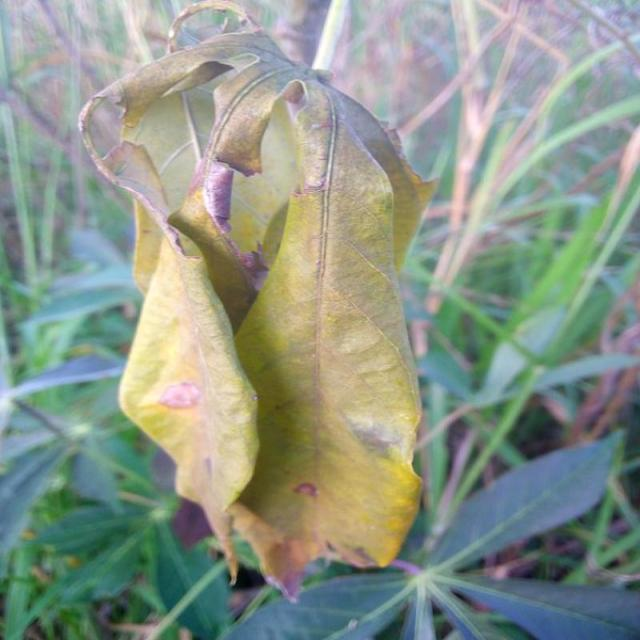cassava leaf: (77, 25, 438, 602)
